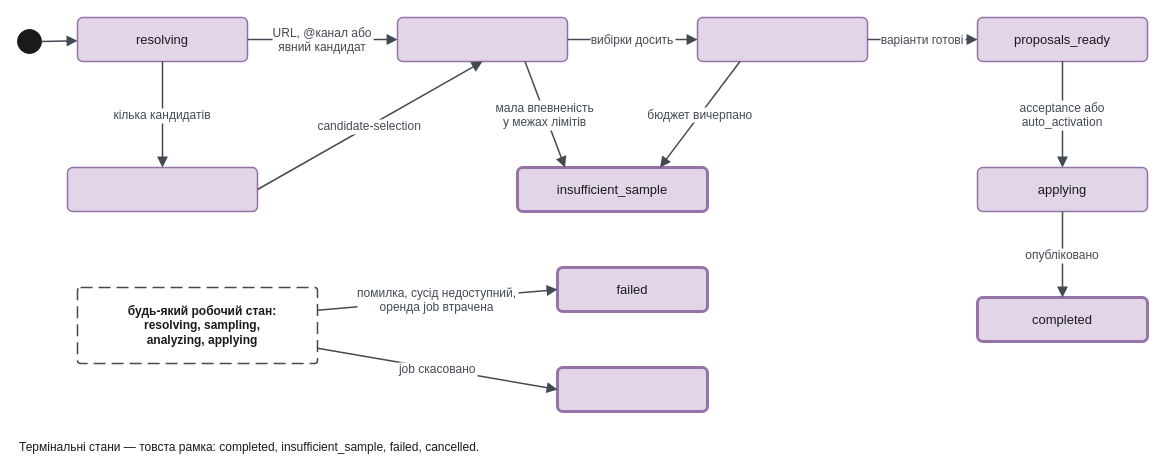
The diagram is 1166 pixels wide and 475 high, and some of its shapes have lost their labels. Here are the shapes that lost their labels. From the top down, the centre of each, then its label:
the point at 482,39: sampling
the point at 782,39: analyzing
the point at 162,189: needs_disambiguation
the point at 632,389: cancelled
